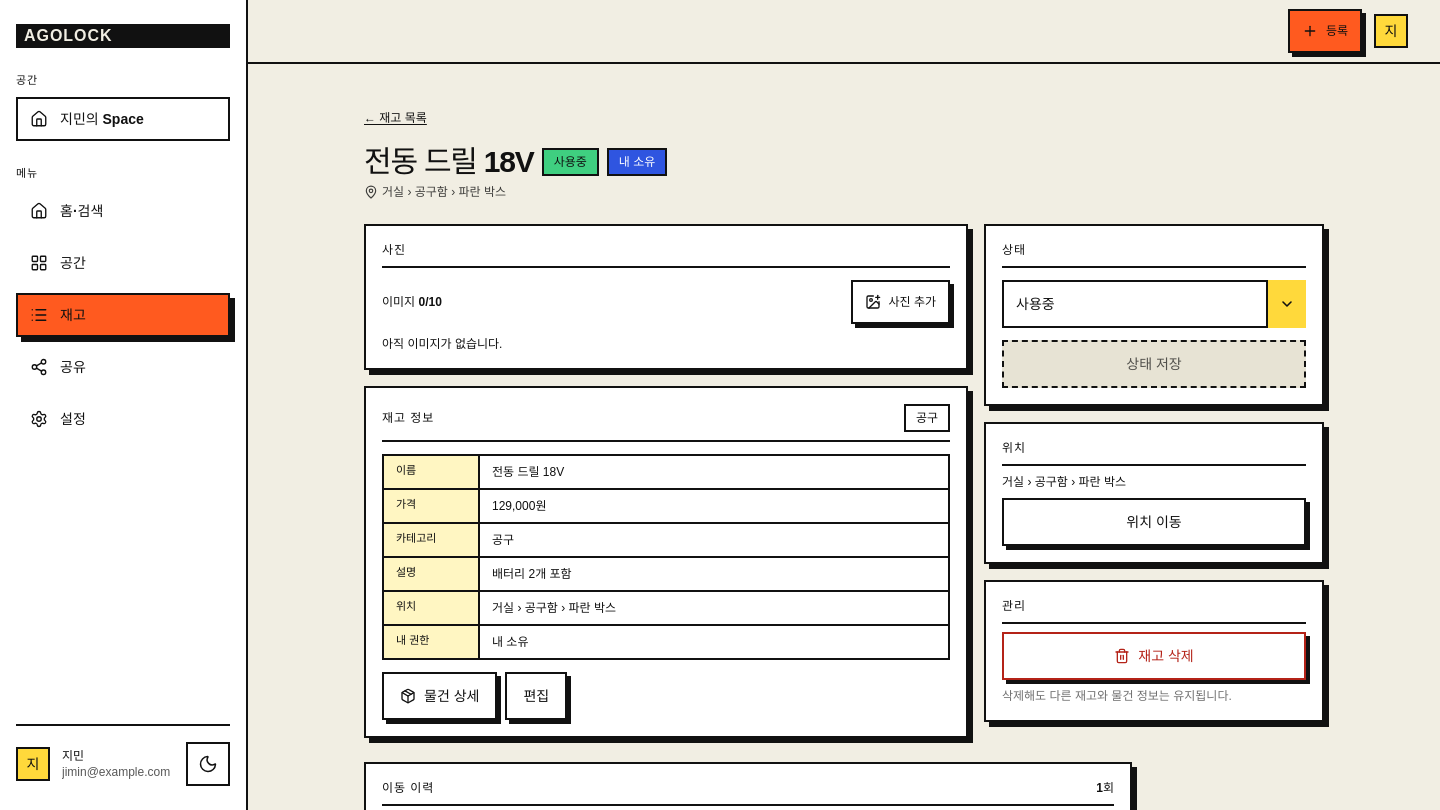
Test: 재고 상세 › 위치 이동 대화상자를 연다
Click the button "위치 이동" at (1154, 522), box [1002,498,1306,546]
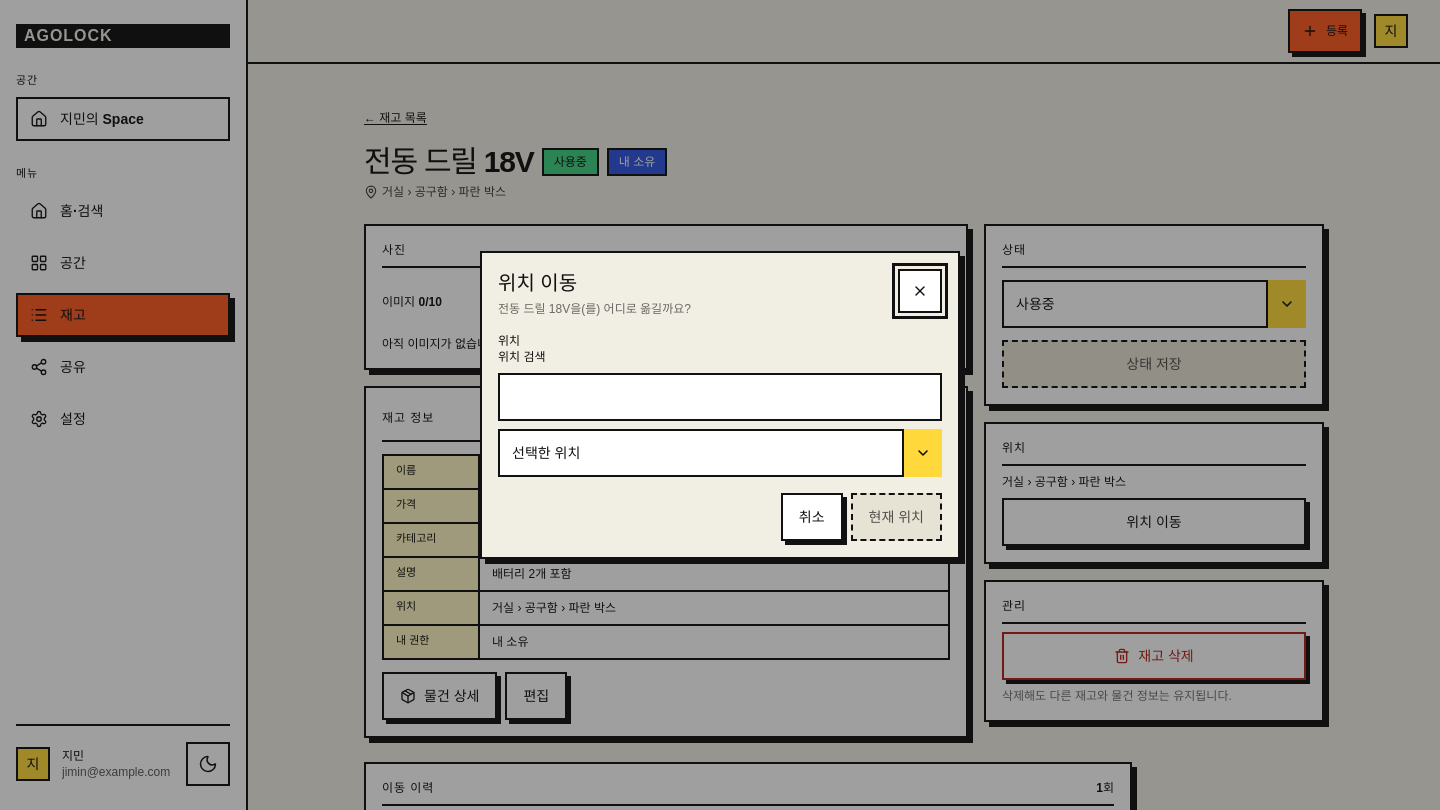
Expected: the heading "위치 이동" is shown, [498,272,577,294]
Expected: the dropdown named "대상 위치" is shown, [498,429,942,477]
